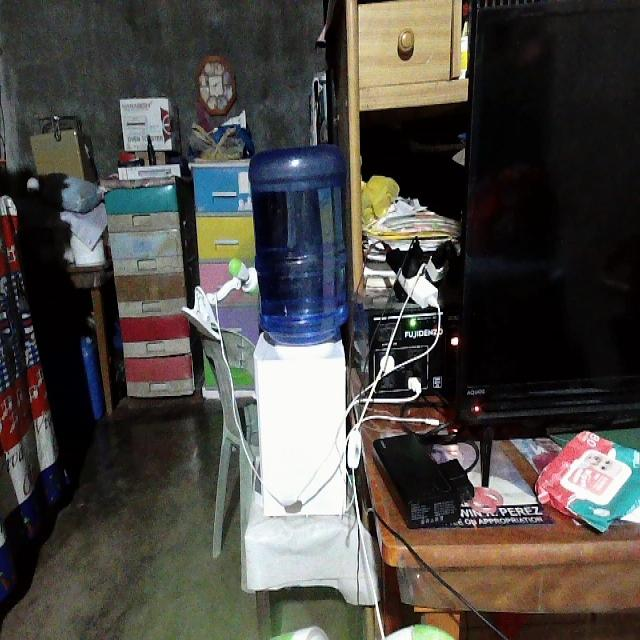-: (373, 225, 459, 320)
